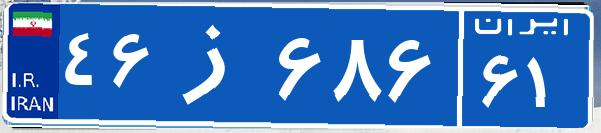1: (525, 38, 570, 115)
4: (57, 26, 110, 107)
6: (385, 28, 445, 110), (273, 28, 330, 110), (475, 38, 525, 113), (110, 28, 158, 105)
8: (330, 28, 385, 110)
ز: (158, 15, 273, 115)
